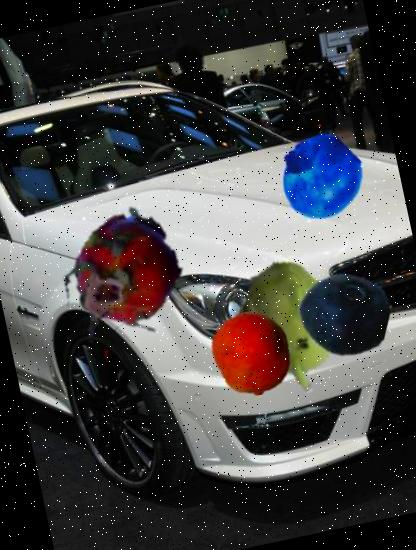Blueberry: (290, 261, 398, 369)
Huckleberry: (270, 128, 368, 226)
Kohlrabi: (211, 247, 370, 406)
Peach: (201, 304, 302, 404)
Pitahaya: (40, 192, 206, 358)
